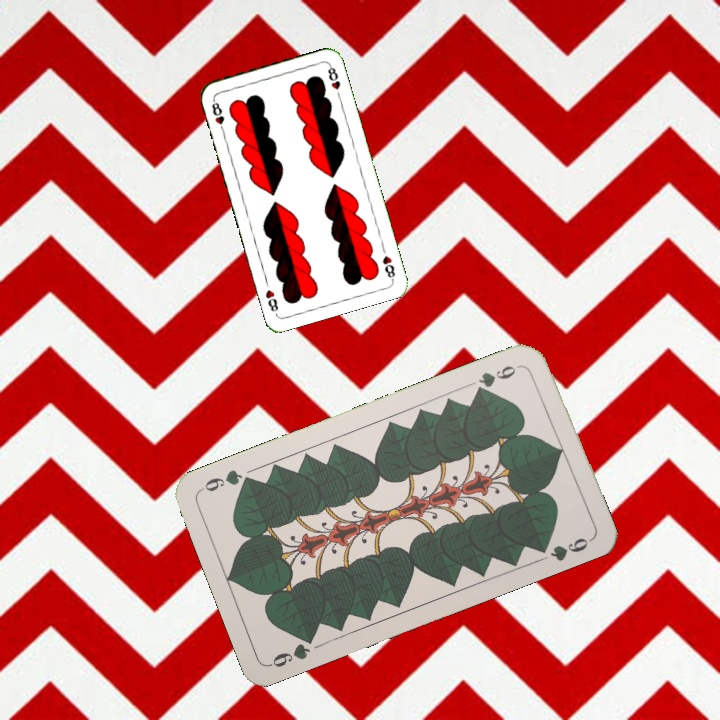G9: (266, 630, 318, 670), (471, 360, 525, 396)
H8: (208, 96, 227, 136), (378, 251, 398, 283)
